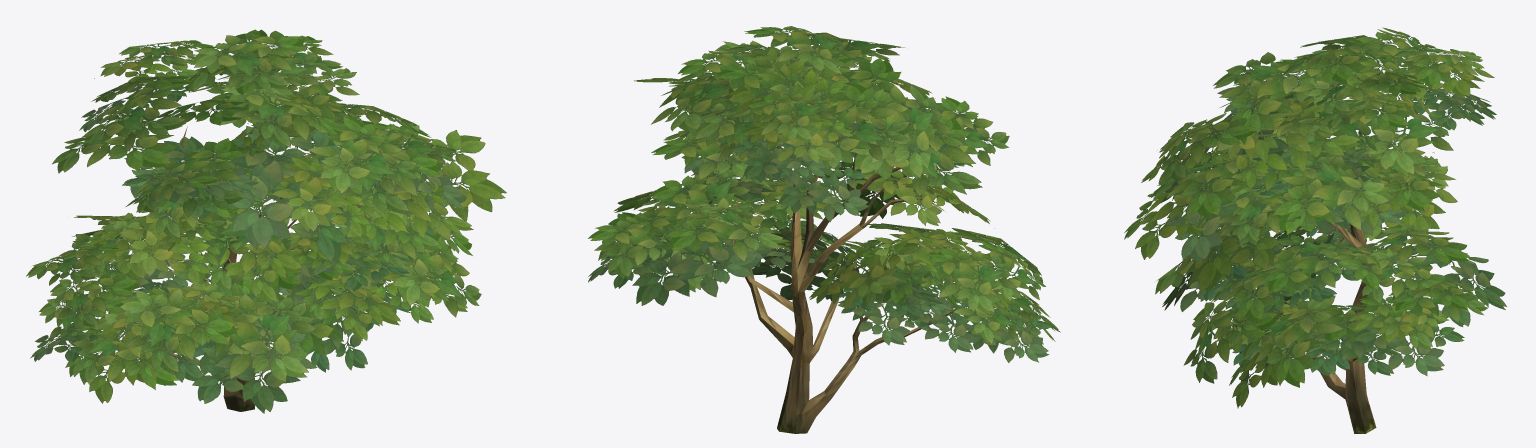
Rendered from map_112_shu_2.fbx.
3 renders of one model, left to right at view 1: azimuth 30°, elevation 25°; view 2: azimuth 150°, elevation 25°; view 3: azimuth 270°, elevation 25°, orthographic. The views are drawn at different scales.
Visible parts, largest first — view 1: map_112_shu_2; view 2: map_112_shu_2; view 3: map_112_shu_2.
Part boxes in pixels (left/top/right/bottom): map_112_shu_2: left=26, top=29, right=506, bottom=413; map_112_shu_2: left=588, top=26, right=1060, bottom=433; map_112_shu_2: left=1124, top=27, right=1506, bottom=433.
Size of the model in its own units: 3.67 by 2.9 by 2.87.
